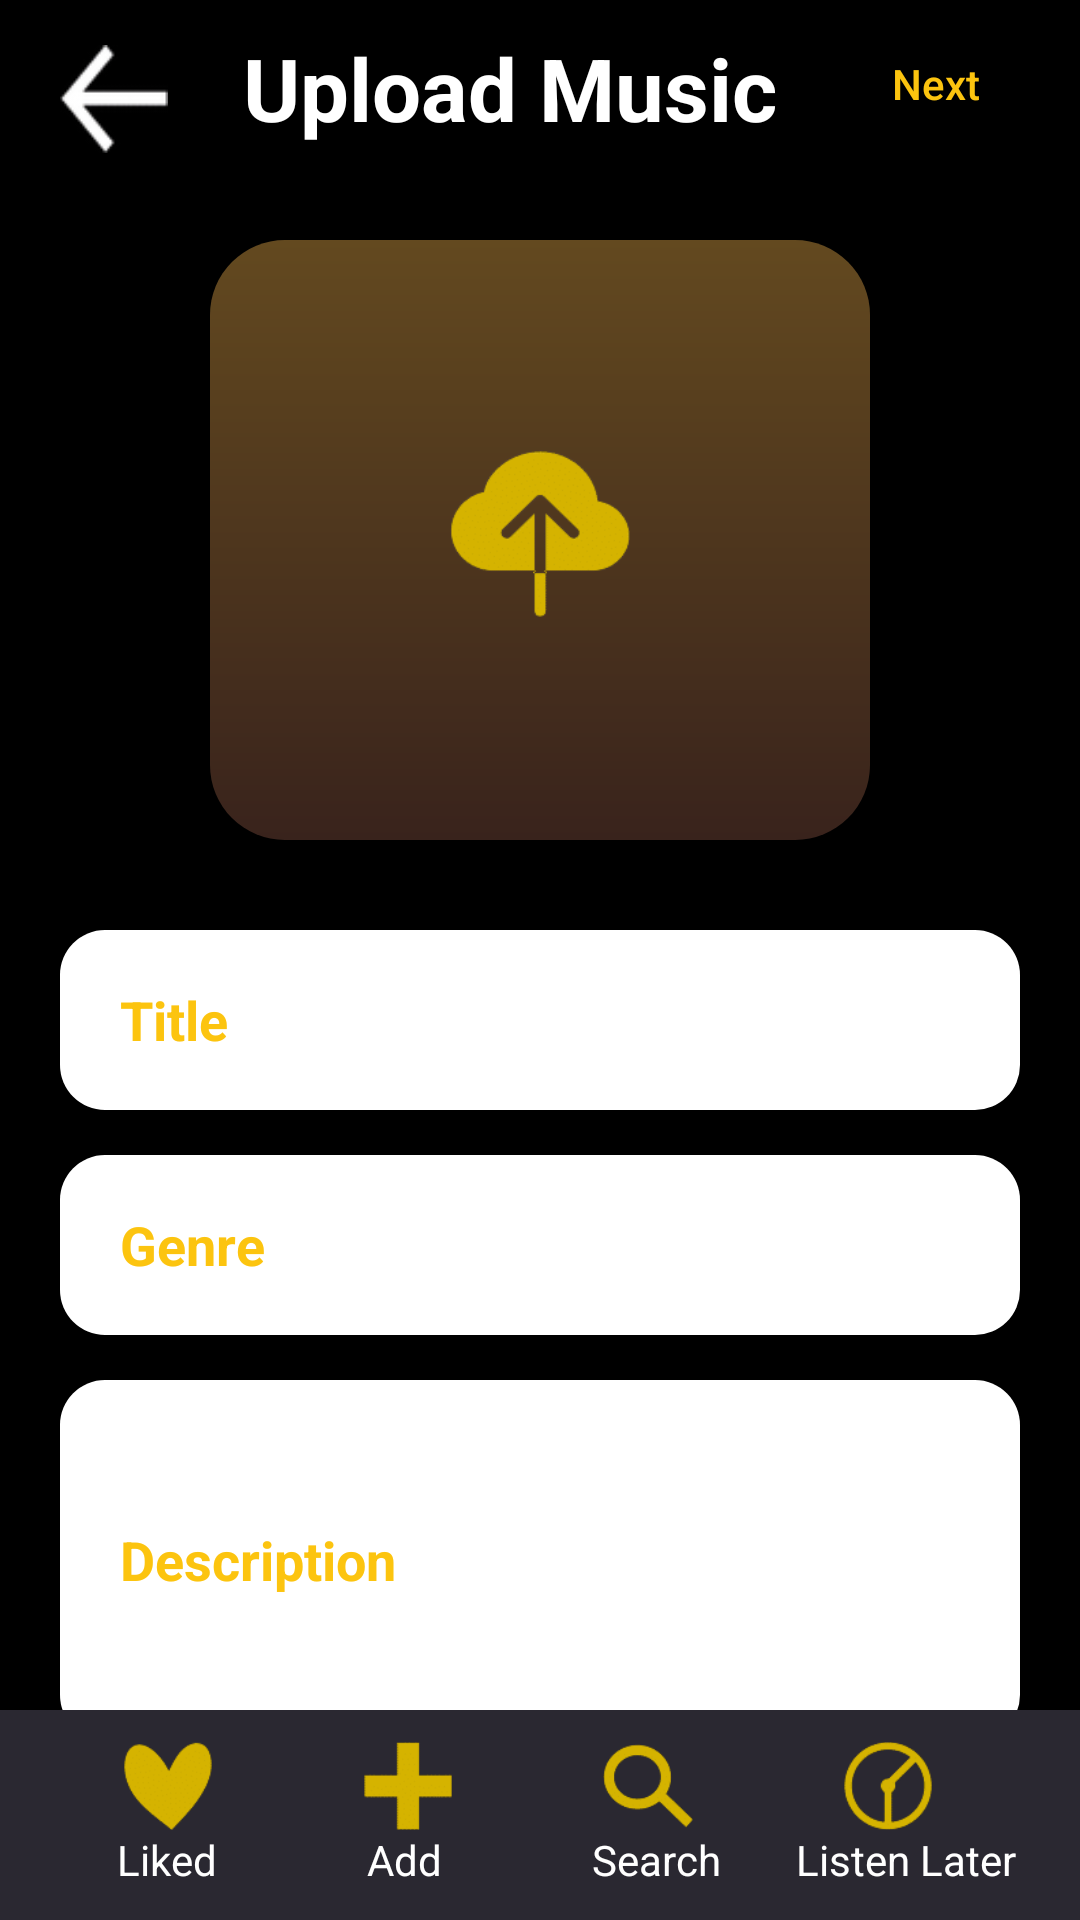

Screen size 1080px x 1920px. Icon name, then its center in pixels as (x=x, y=y):
backarrow page: (x=114, y=99)
